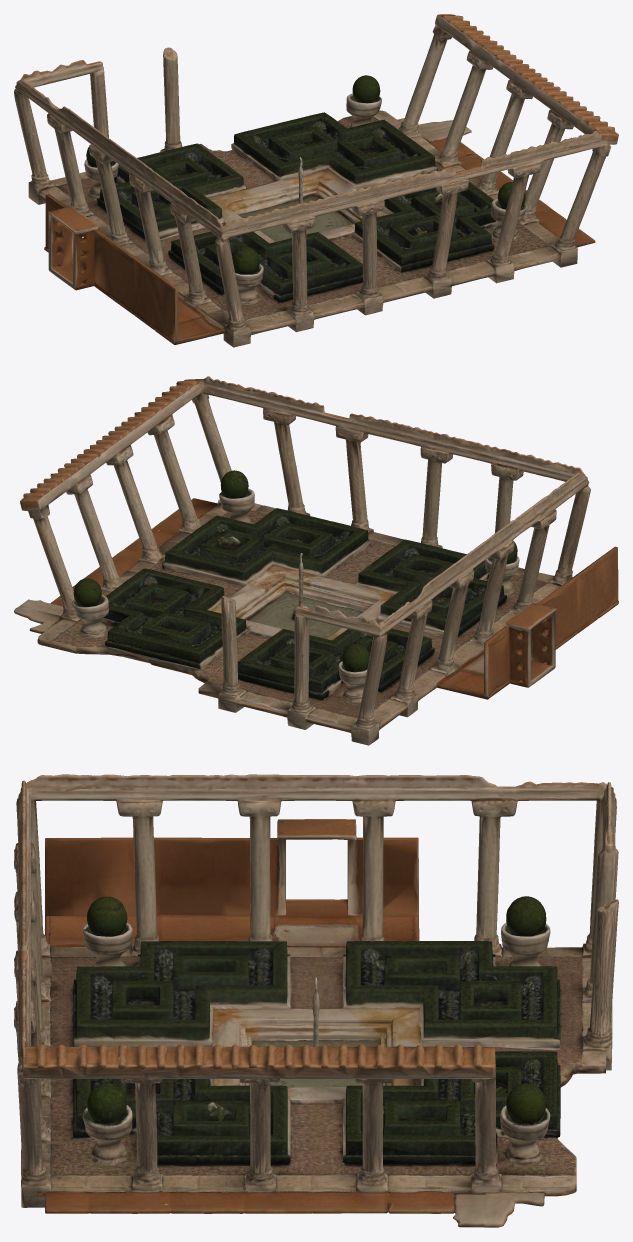
File: courtyard.glb
3 renders of one model, top to bottom at view 1: azimuth 30°, elevation 25°; view 2: azimuth 150°, elevation 25°; view 3: azimuth 270°, elevation 25°, orthographic. The views are drawn at different scales.
Visible parts, largest first — view 1: tripo_node_9371963b-72d2-4648-9e48-e6cbf617c547; view 2: tripo_node_9371963b-72d2-4648-9e48-e6cbf617c547; view 3: tripo_node_9371963b-72d2-4648-9e48-e6cbf617c547.
Part boxes in pixels (bbox=[...]): tripo_node_9371963b-72d2-4648-9e48-e6cbf617c547: bbox=[14, 14, 618, 347]; tripo_node_9371963b-72d2-4648-9e48-e6cbf617c547: bbox=[14, 376, 618, 745]; tripo_node_9371963b-72d2-4648-9e48-e6cbf617c547: bbox=[14, 774, 618, 1227].
Size of the model in its own units: 0.9842 by 0.2716 by 0.7772.
1 material, 1 textured.
